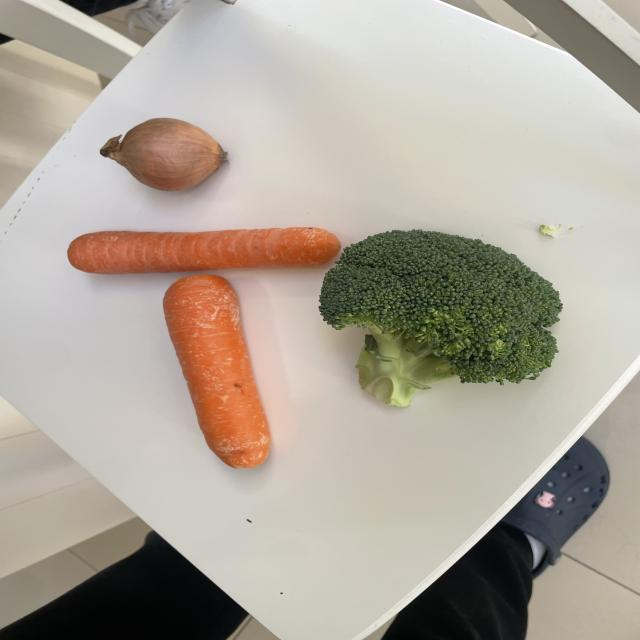Broccoli: (316, 228, 564, 409)
Carrot: (163, 274, 272, 470), (65, 224, 338, 276)
Onion: (98, 116, 232, 193)
